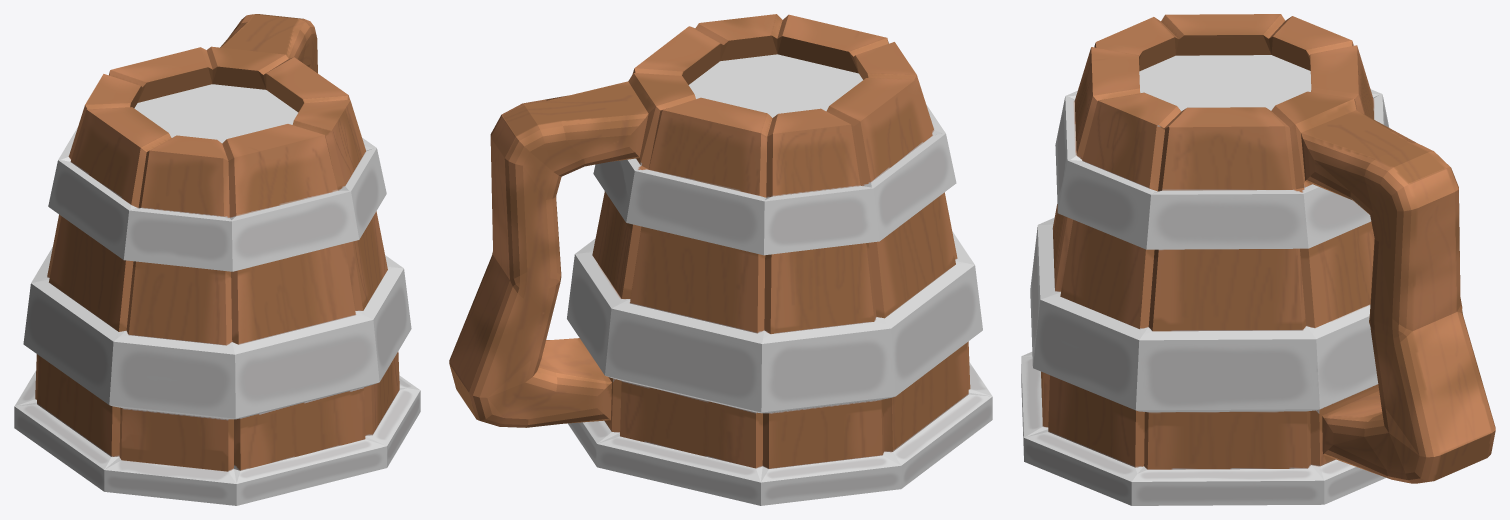
File: mug.fbx
3 renders of one model, left to right at view 1: azimuth 30°, elevation 25°; view 2: azimuth 150°, elevation 25°; view 3: azimuth 270°, elevation 25°, orthographic. The views are drawn at different scales.
Parts seen in each view (by area): view 1: mug; view 2: mug; view 3: mug.
Part boxes in pixels (<box>): mug: <box>14,14,420,505</box>; mug: <box>449,14,992,505</box>; mug: <box>1021,14,1495,505</box>.
Bounding box in the file's own units: 59.98 × 49.24 × 60.61.
